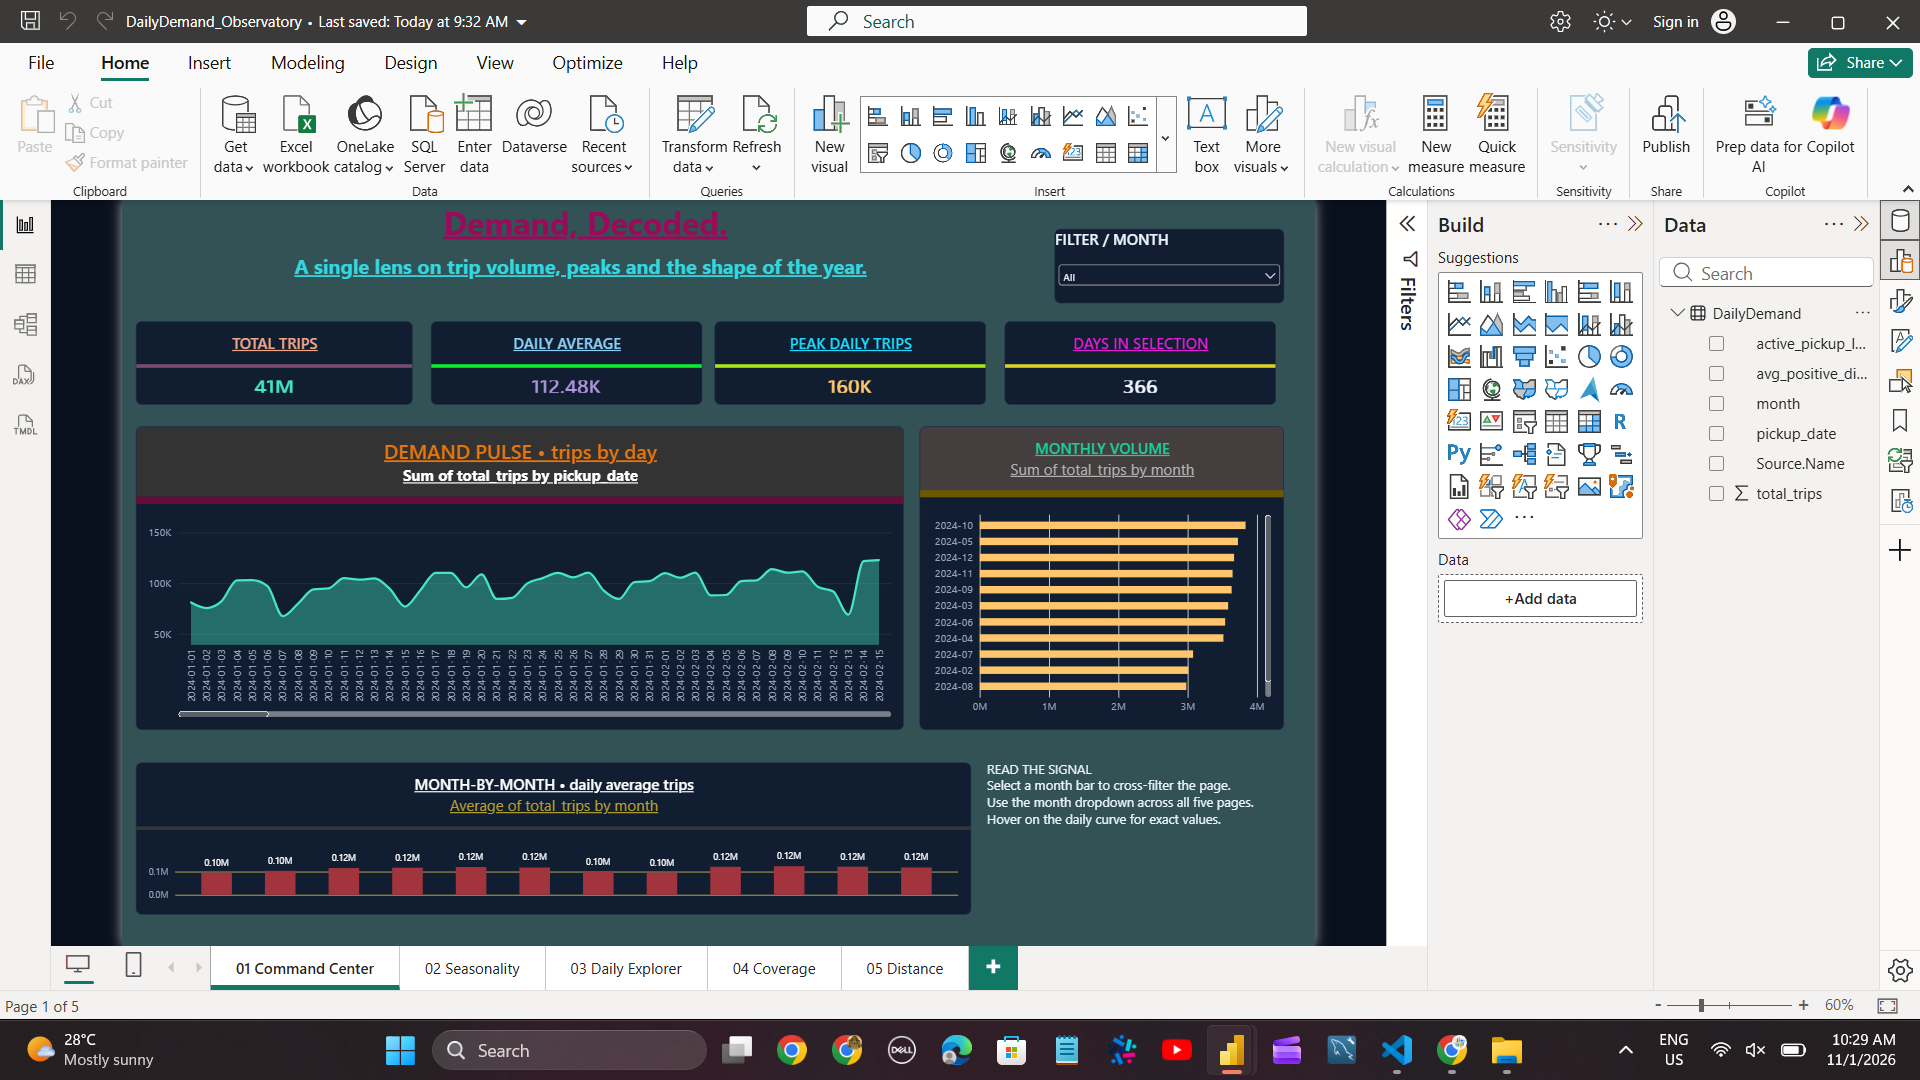

The page's visual inventory and layout, read from the dashboard file:
{"tool":"powerbi","page":{"name":"01  Command Center","canvas":[1600,1000],"ordinal":0},"visuals":[{"type":"textbox","box":[42.3,0,1159.1,71.2],"z":0},{"type":"textbox","box":[44.5,71.2,1139.1,42.3],"z":1000},{"type":"slicer","title":"FILTER / MONTH","fields":{"Values":["DailyDemand.month"]},"box":[1250,38,308,100],"z":2000},{"type":"card","title":"TOTAL TRIPS","fields":{"Values":["Sum(DailyDemand.total_trips)"]},"box":[17.8,162.4,371.5,111.8],"z":3000},{"type":"card","title":"DAILY AVERAGE","fields":{"Values":["Avg(DailyDemand.total_trips)"]},"box":[413.8,162.4,364,112],"z":4000},{"type":"card","title":"PEAK DAILY TRIPS","fields":{"Values":["Max(DailyDemand.total_trips)"]},"box":[794.2,162.4,364,112],"z":5000},{"type":"card","title":"DAYS IN SELECTION","fields":{"Values":["CountNonNull(DailyDemand.pickup_date)"]},"box":[1183.1,162.3,364,112],"z":6000},{"type":"areaChart","title":" DEMAND PULSE  •  trips by day","fields":{"Category":["DailyDemand.pickup_date"],"Y":["Sum(DailyDemand.total_trips)"]},"box":[18,303,1029.8,407.6],"z":7000},{"type":"clusteredBarChart","title":" MONTHLY VOLUME","fields":{"Category":["DailyDemand.month"],"Y":["Sum(DailyDemand.total_trips)"]},"box":[1069.4,303,488.7,407.6],"z":8000},{"type":"clusteredColumnChart","title":"MONTH-BY-MONTH  •  daily average trips","fields":{"Category":["DailyDemand.month"],"Y":["Avg(DailyDemand.total_trips)"]},"box":[17.8,754.2,1119.9,203.8],"z":9000},{"type":"textbox","box":[1159.6,750.2,369.7,209.2],"z":10000}]}

Visuals, with their boxes on the page's 1600x1000 design canvas (x1, y1, x2, y2). These are canvas units, not pixel positions in the 1920x1080 screenshot, which may show the page scaled, cropped or inside an application window:
textbox: region(42, 0, 1201, 71)
textbox: region(44, 71, 1184, 114)
"FILTER / MONTH" slicer: region(1250, 38, 1558, 138)
"TOTAL TRIPS" card: region(18, 162, 389, 274)
"DAILY AVERAGE" card: region(414, 162, 778, 274)
"PEAK DAILY TRIPS" card: region(794, 162, 1158, 274)
"DAYS IN SELECTION" card: region(1183, 162, 1547, 274)
" DEMAND PULSE  •  trips by day" areaChart: region(18, 303, 1048, 711)
" MONTHLY VOLUME" clusteredBarChart: region(1069, 303, 1558, 711)
"MONTH-BY-MONTH  •  daily average trips" clusteredColumnChart: region(18, 754, 1138, 958)
textbox: region(1160, 750, 1529, 959)
